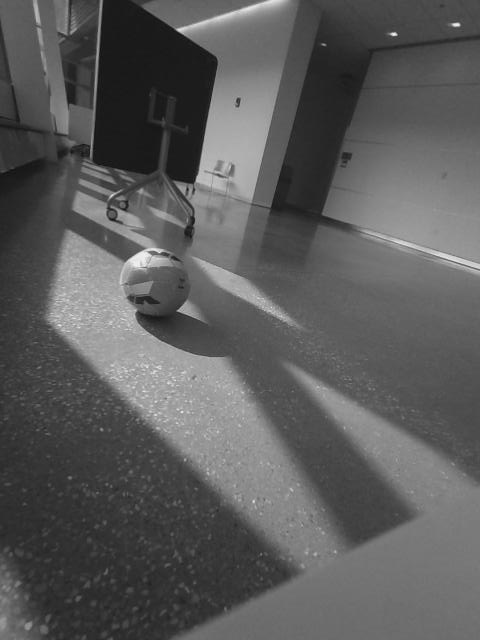ball: (120, 246, 194, 319)
